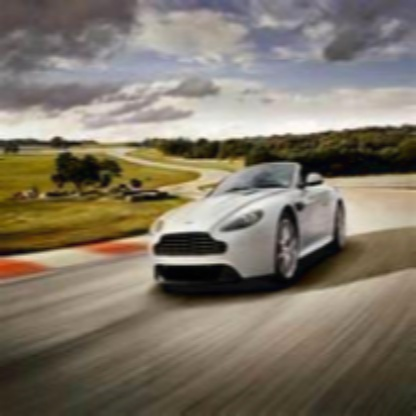Vehicle: (146, 163, 350, 288)
